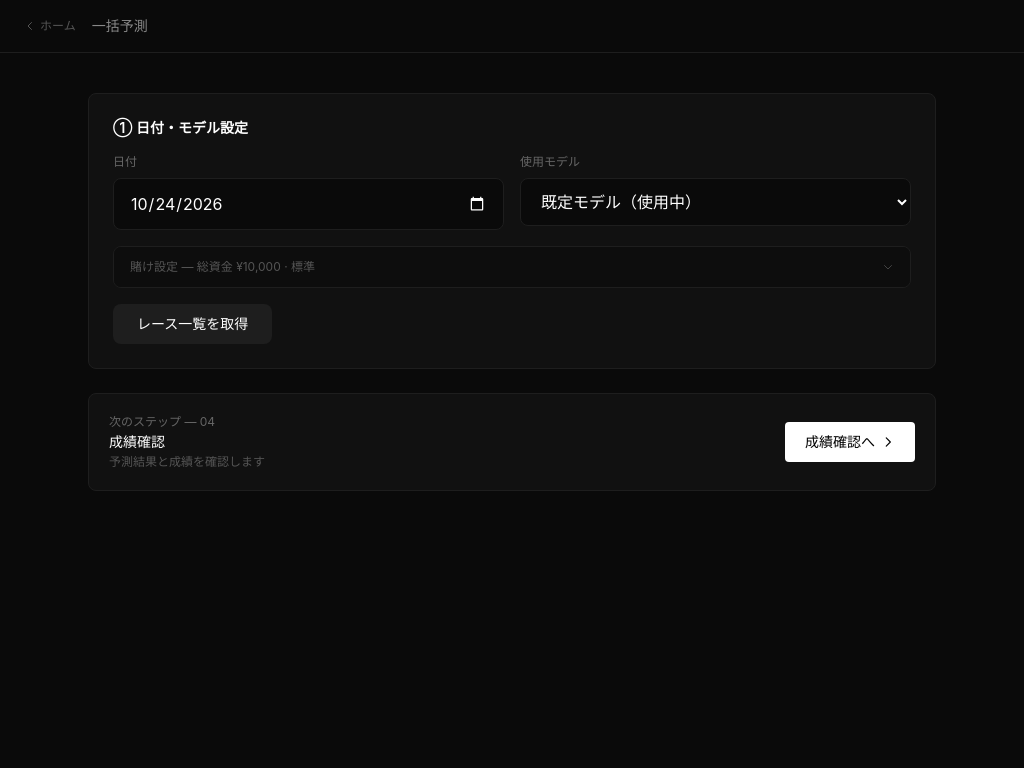
Scenario: batch betting settings › does not restore a different model when an explicit model is selected
Select "モデル｜—" in the dropdown labelled "使用モデル" at (716, 202), box [520, 178, 911, 226]
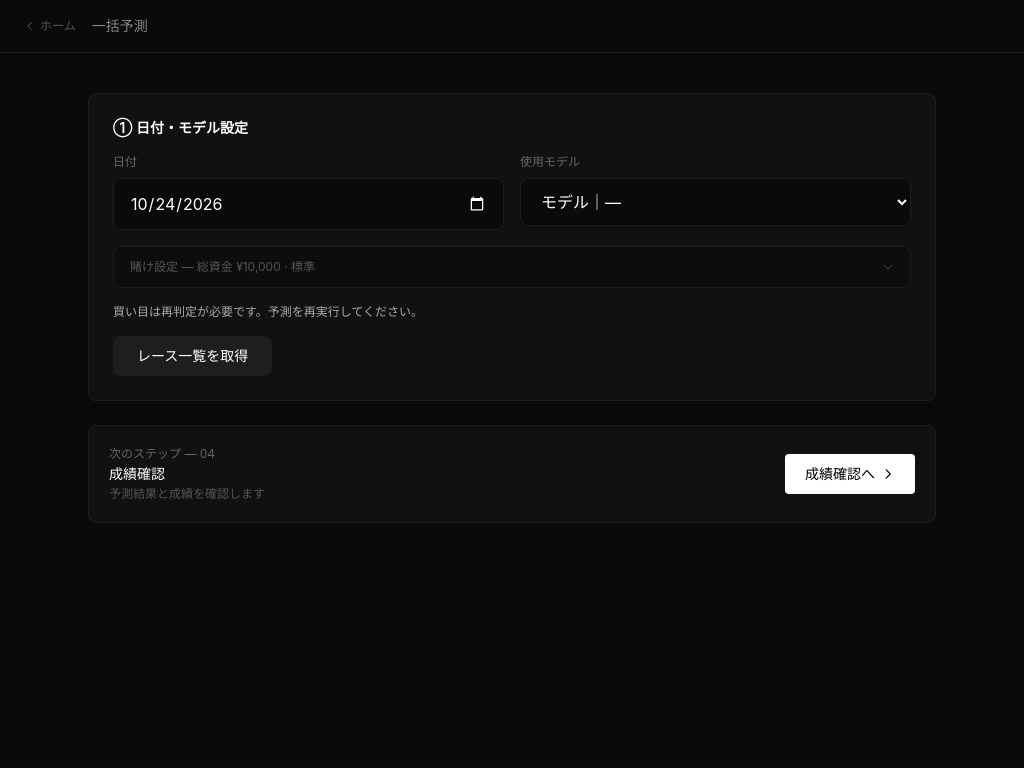
Click the button "レース一覧を取得" at (193, 356), box [113, 336, 272, 376]
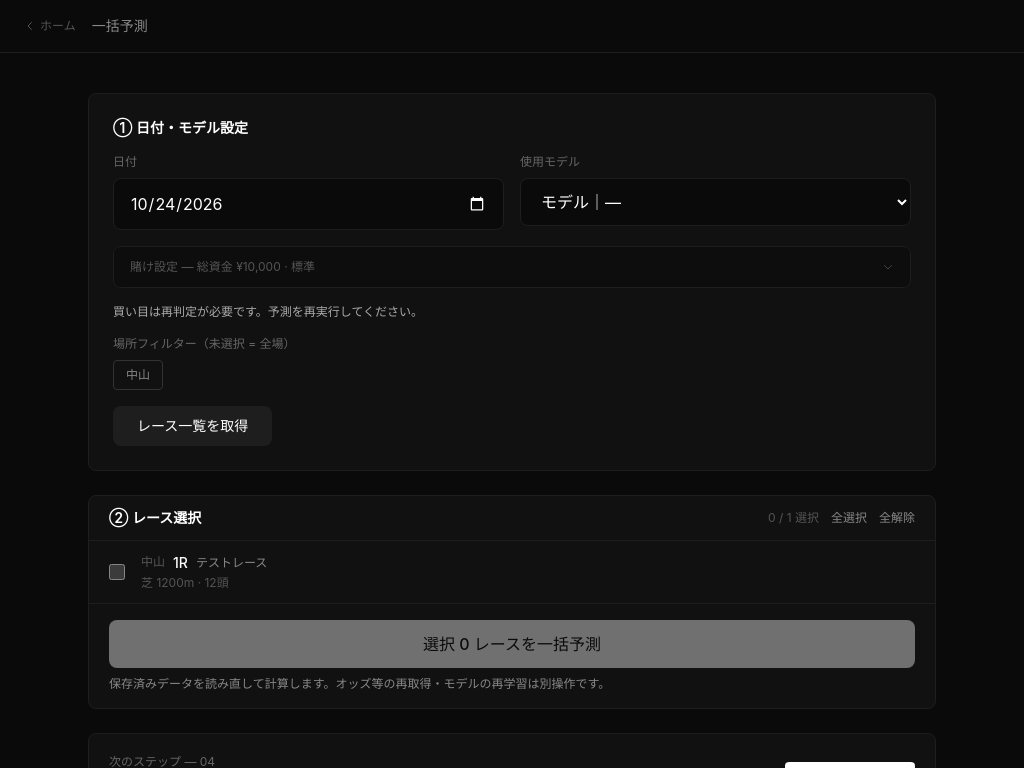
Expected: the text "買い目は再判定が必要です。予測を再実行してください。" is shown, [113, 304, 423, 319]
Expected: the text "テストレース" is shown, [196, 555, 267, 571]
